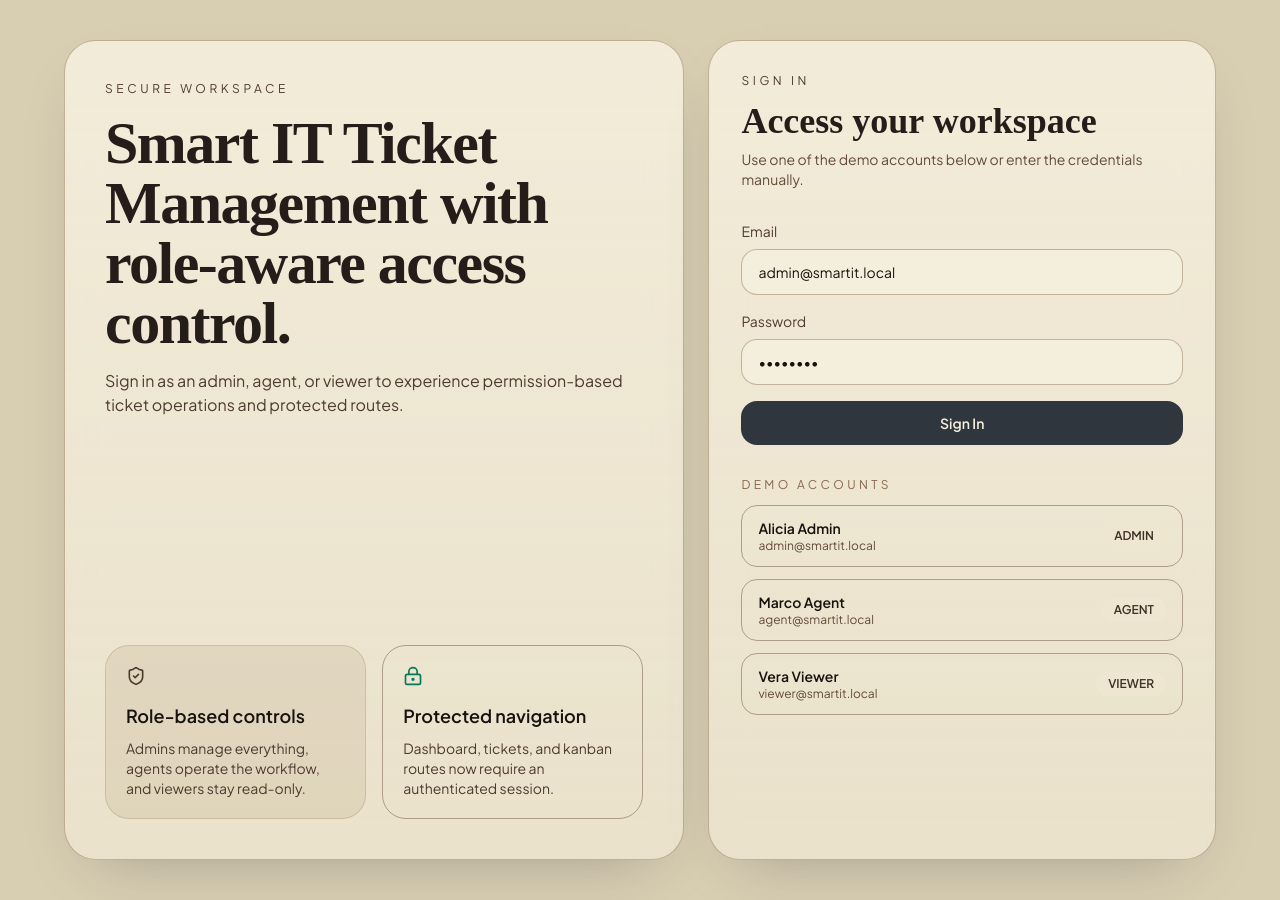
Scenario: LoginPage › shows an error for invalid credentials
Replace the text in the field labelled "Email" with "nope@smartit.local" at [962, 272], box [741,249,1183,295]
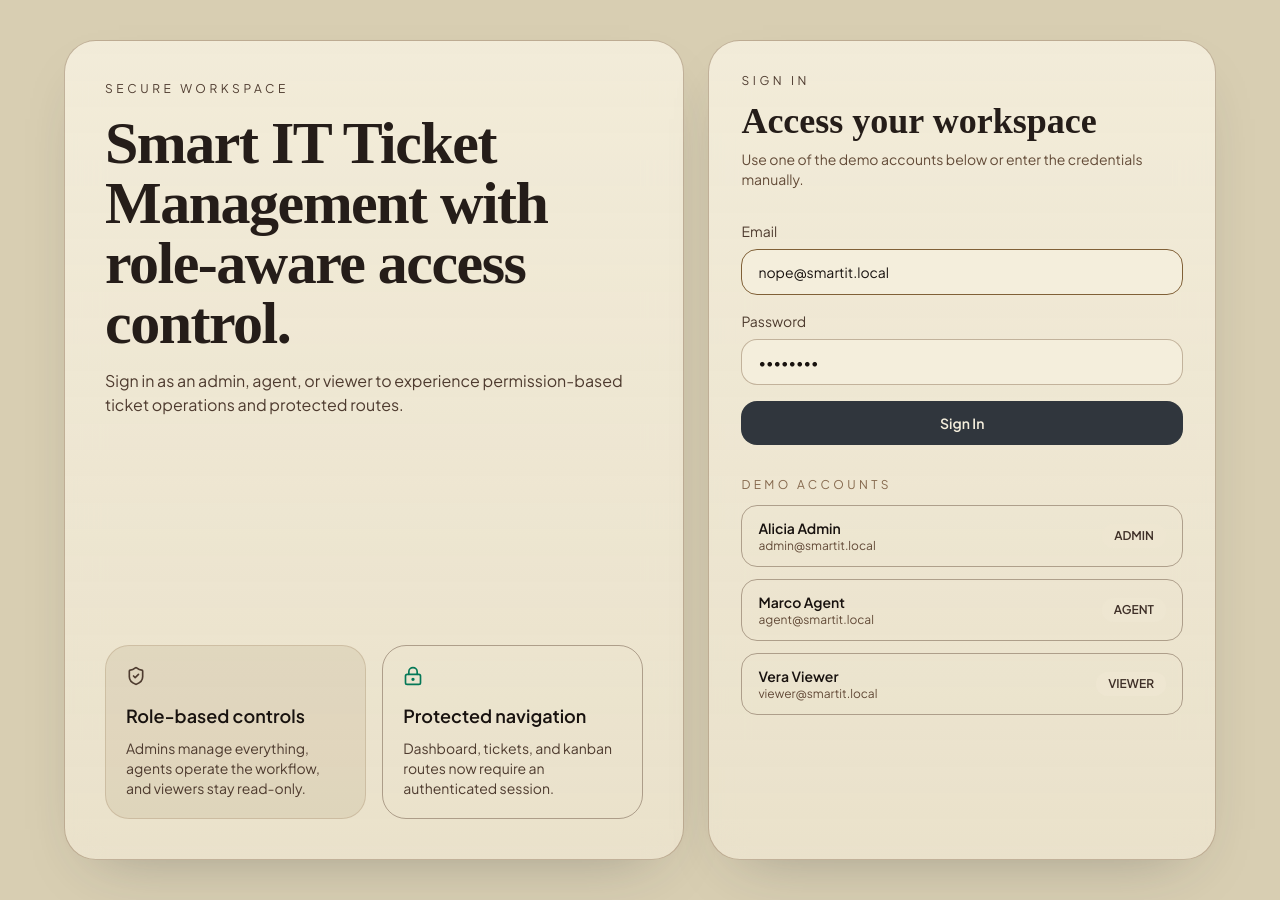
Type "wrongpass" into the password field labelled "Password" at [962, 362], box [741,339,1183,385]
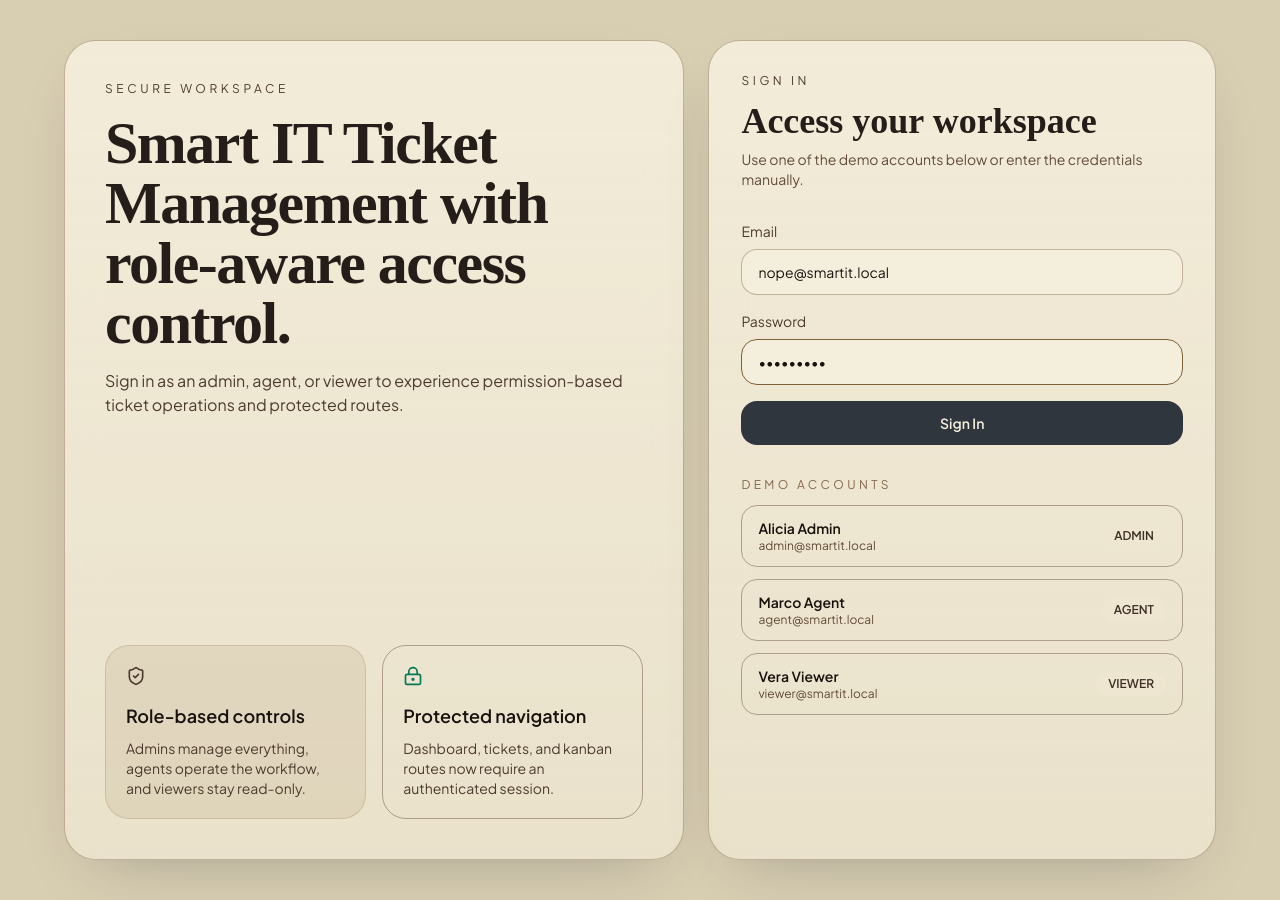
Click the button "Sign In" at [962, 423], box [741,401,1183,445]
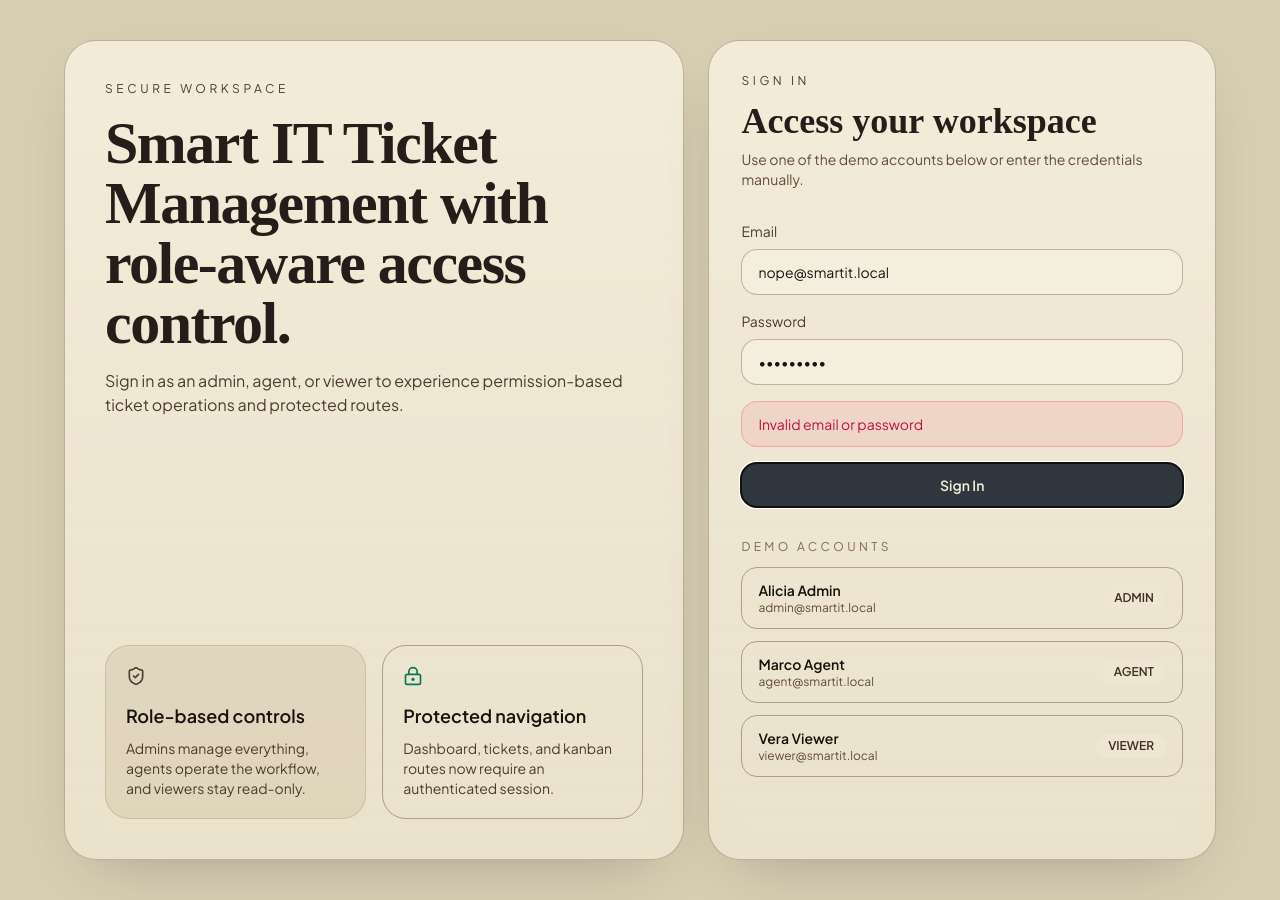
expect the text "Invalid email or password" is shown: met, box [741,401,1183,447]
